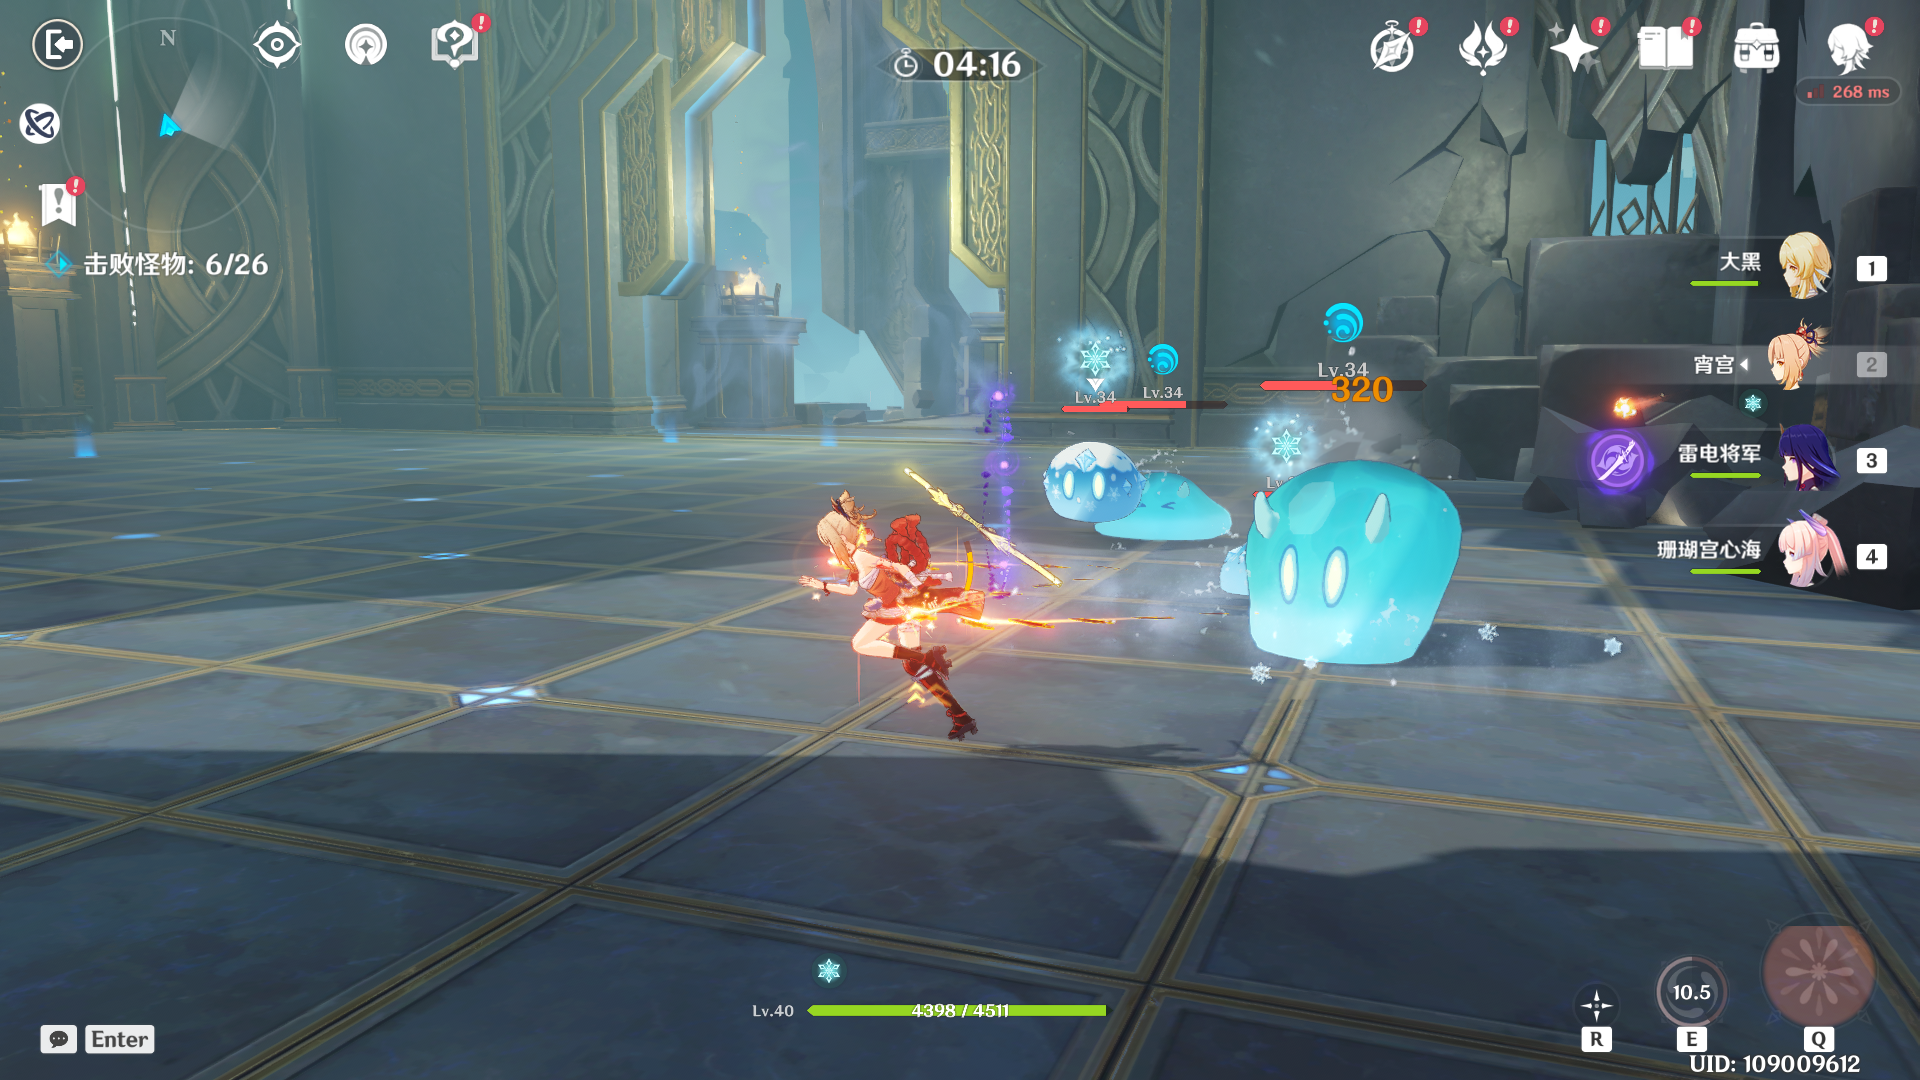character: (746, 469, 1027, 778)
slime: (1226, 463, 1486, 695), (1087, 444, 1237, 567), (1033, 439, 1149, 527)
